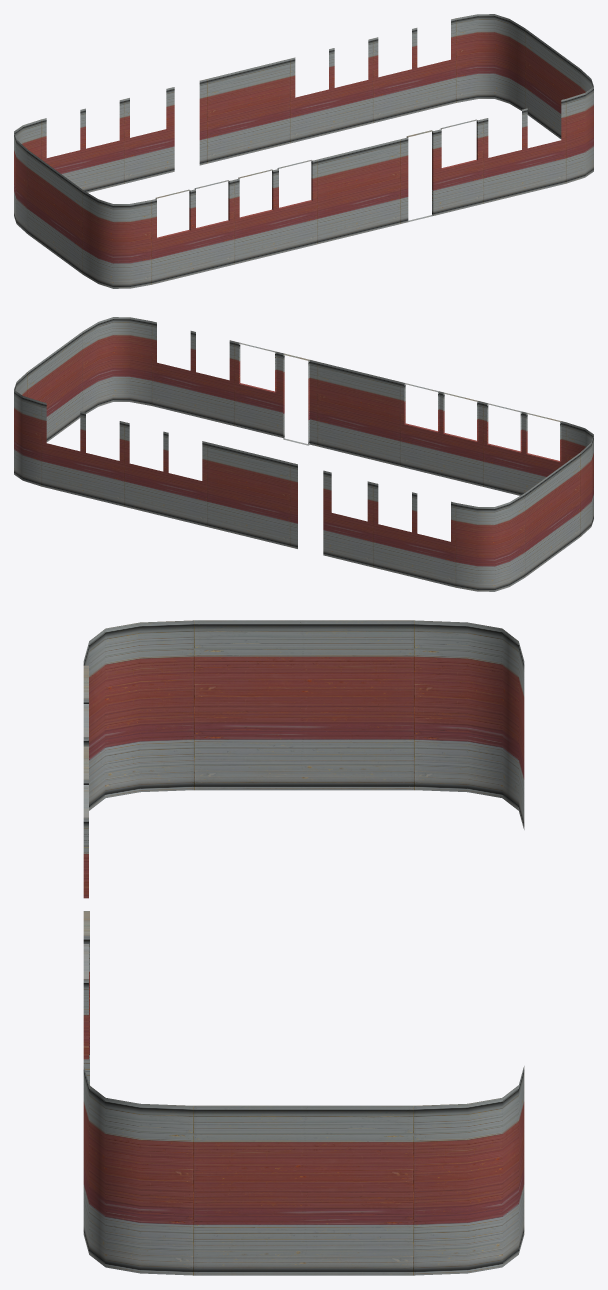
File: rural_diner_1_rural_trailer_stuff_1_0_lev2.glb
3 renders of one model, top to bottom at view 1: azimuth 30°, elevation 25°; view 2: azimuth 150°, elevation 25°; view 3: azimuth 270°, elevation 25°, orthographic. The views are drawn at different scales.
Visible parts, largest first — view 1: rural_diner_1_rural_trailer_stuff_1_0_lev2; view 2: rural_diner_1_rural_trailer_stuff_1_0_lev2; view 3: rural_diner_1_rural_trailer_stuff_1_0_lev2.
Part boxes in pixels (<box>): rural_diner_1_rural_trailer_stuff_1_0_lev2: <box>14,14,593,288</box>; rural_diner_1_rural_trailer_stuff_1_0_lev2: <box>14,317,593,591</box>; rural_diner_1_rural_trailer_stuff_1_0_lev2: <box>83,620,524,1275</box>.
Bounding box in the file's own units: 13.33 × 2.17 × 5.11.
1 material, 1 textured.
